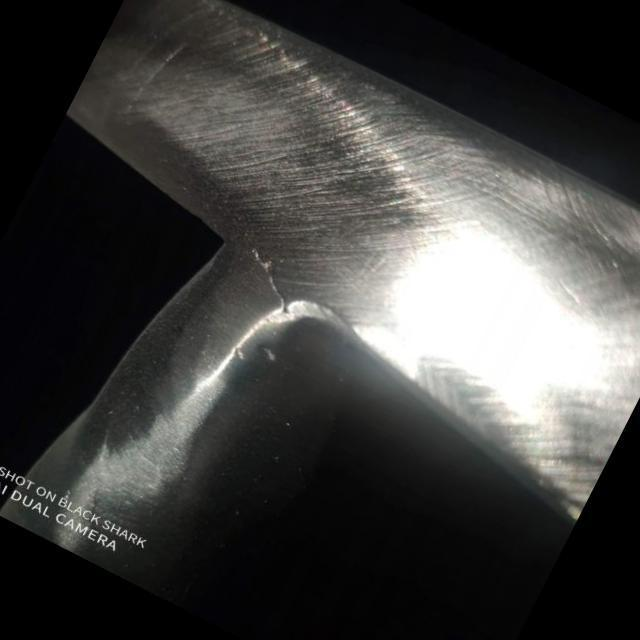defect: (251, 250, 292, 318)
